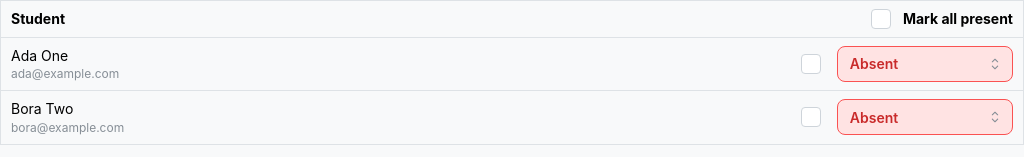
Test case: AttendanceEditor quick marking › marks one student present in one click and exposes a mixed bulk state
The width and height of the screenshot is (1024, 162).
Click the checkbox named "Mark Ada One present" at (811,64), box [801, 54, 821, 74]
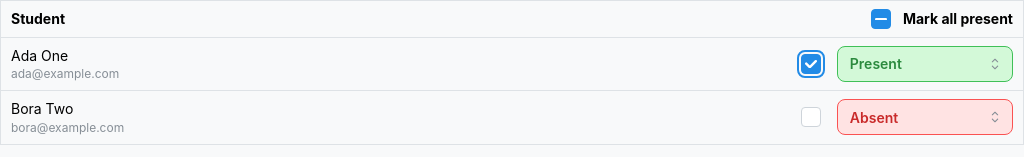
Check: the checkbox named "Mark Ada One present" is checked, box [801, 54, 821, 74]
Check: the dropdown named "Status" in the row of "Ada One" holds "Present", box [837, 46, 1013, 82]
